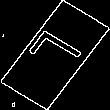L_SE: (22, 28, 88, 82)
